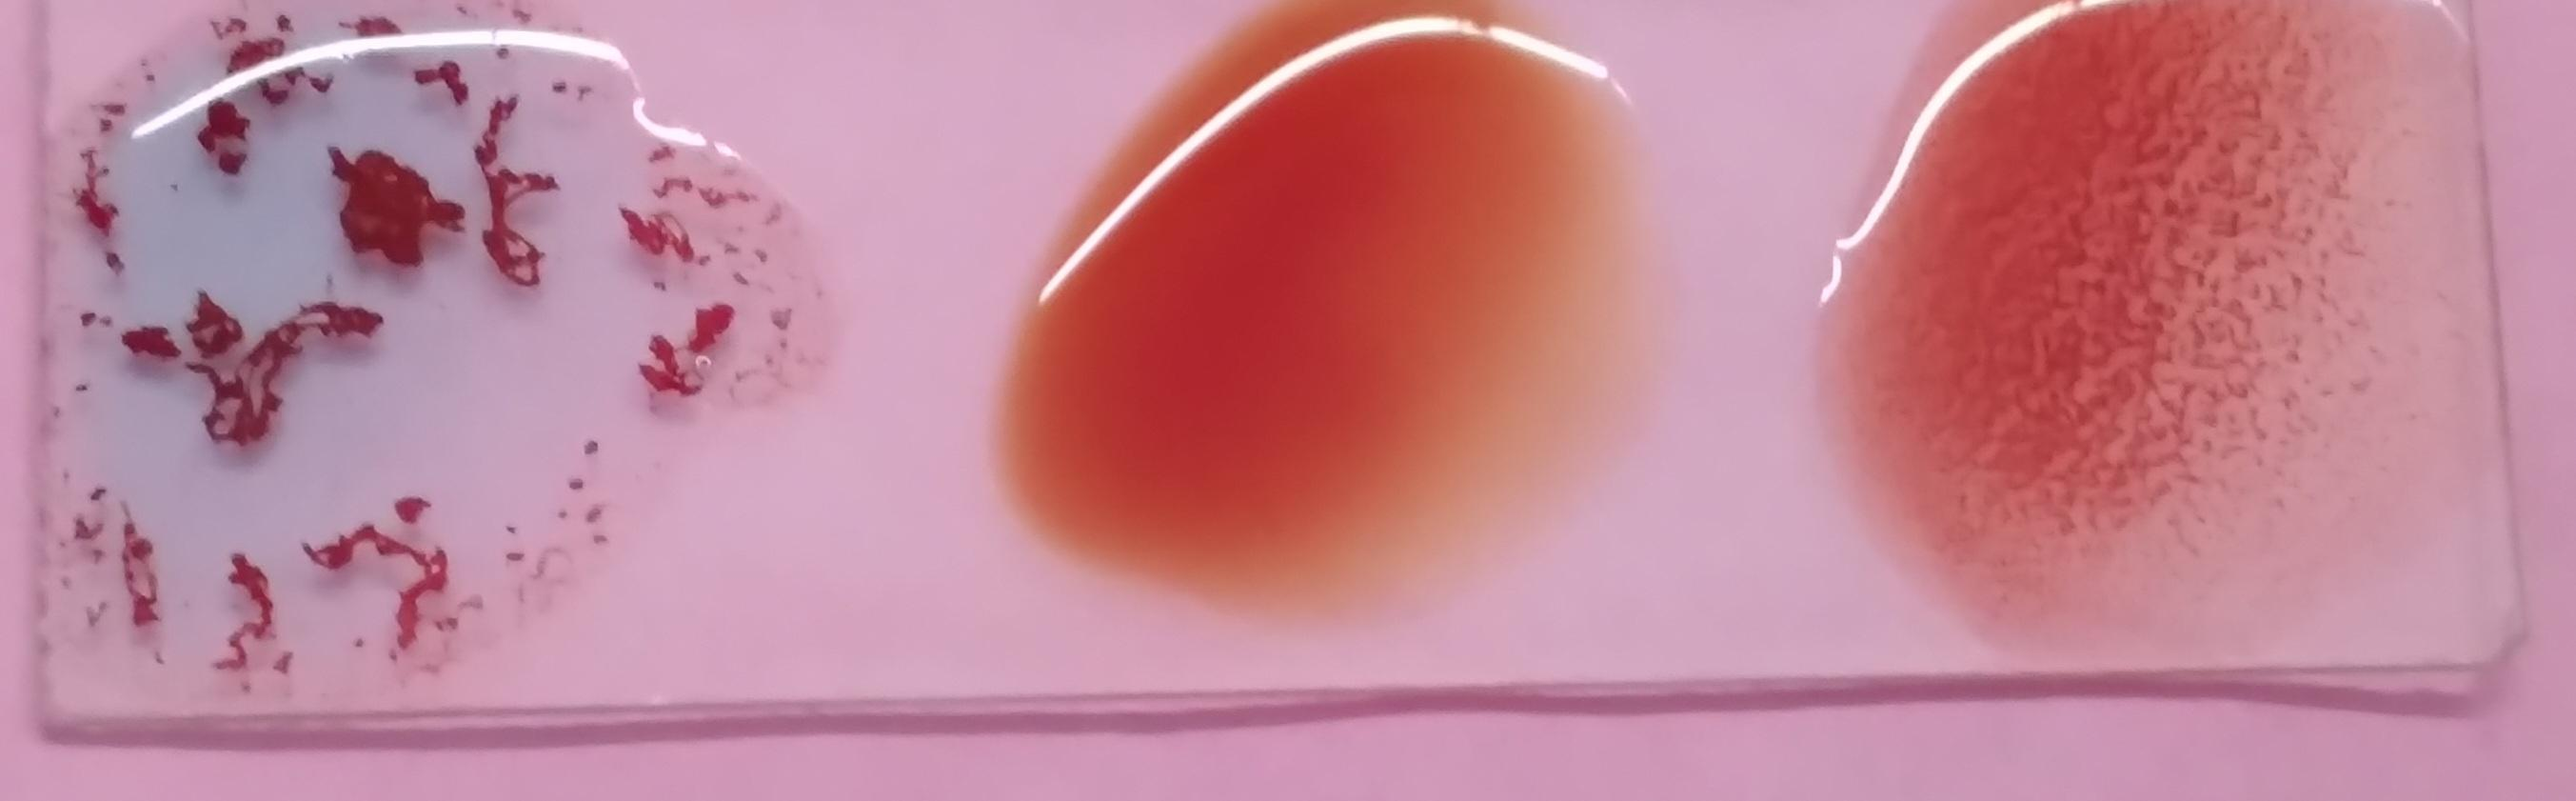A: (30, 36, 724, 701)
D: (1914, 10, 2425, 633)
